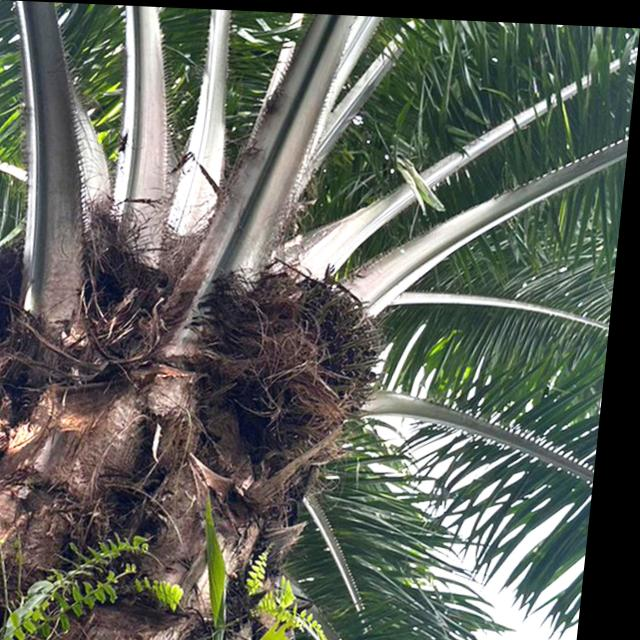unripe: (201, 260, 399, 459)
